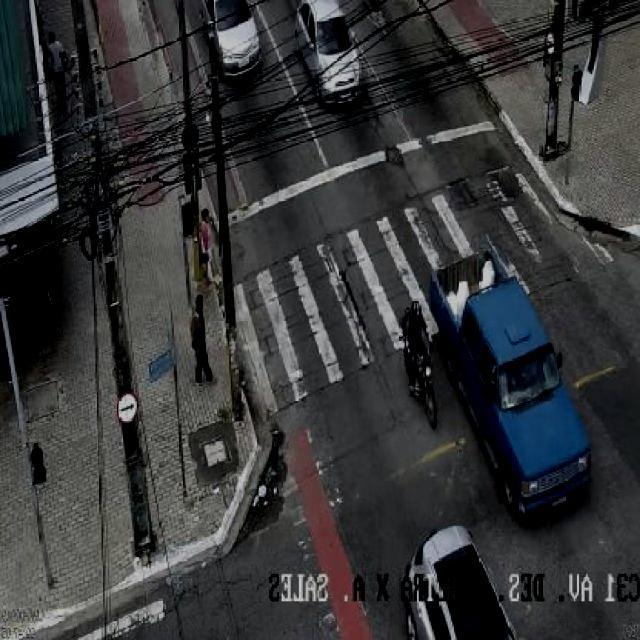Car: (378, 510, 521, 640), (184, 0, 270, 87)
Cycle: (387, 287, 440, 412)
Truck: (407, 228, 598, 524)
Van: (291, 0, 372, 110)
